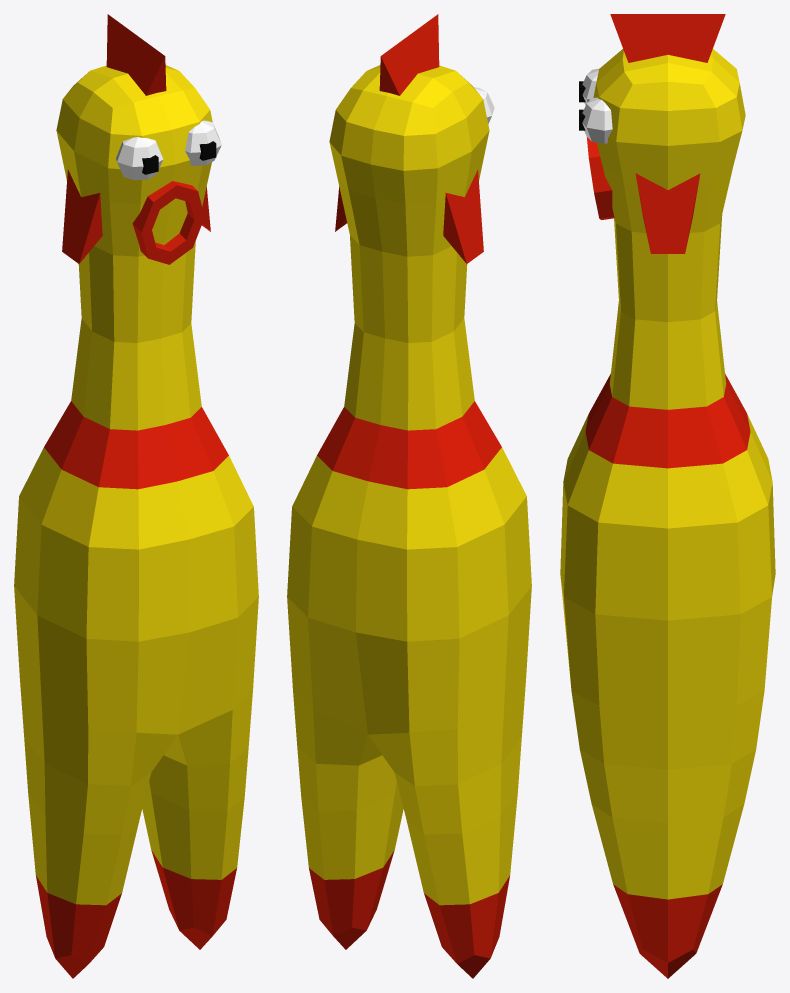
Rendered from chicken.fbx.
3 renders of one model, left to right at view 1: azimuth 30°, elevation 25°; view 2: azimuth 150°, elevation 25°; view 3: azimuth 270°, elevation 25°, orthographic.
Parts seen in each view (by area): view 1: Chicken; view 2: Chicken; view 3: Chicken.
Boxes of the visible parts, bbox=[...] form: Chicken: bbox=[14, 14, 258, 978]; Chicken: bbox=[287, 14, 531, 978]; Chicken: bbox=[560, 14, 775, 978].
Bounding box in the file's own units: 114 × 510 × 107.
